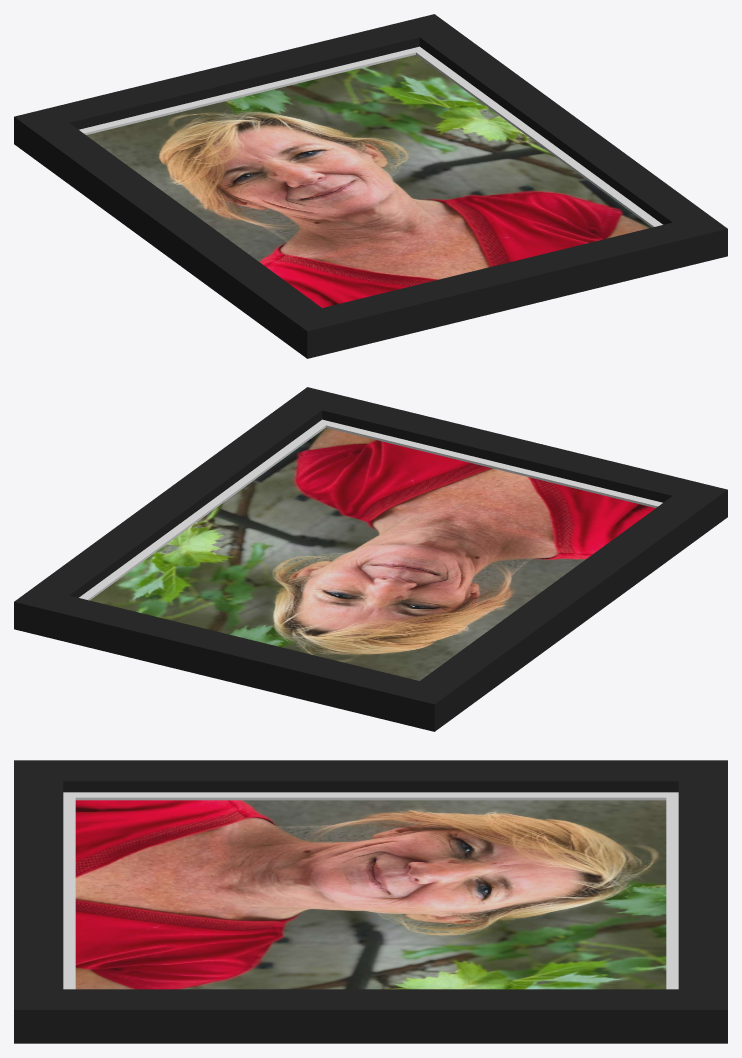
The picture shows the model from 3 angles, top to bottom: view 1: azimuth 30°, elevation 25°; view 2: azimuth 150°, elevation 25°; view 3: azimuth 270°, elevation 25°; orthographic projection. The views are drawn at different scales.
Parts seen in each view (by area): view 1: PhotoPlane.002, BuitenFrame, BinnenFrame; view 2: PhotoPlane.002, BuitenFrame, BinnenFrame; view 3: PhotoPlane.002, BuitenFrame, BinnenFrame.
Part boxes in pixels (x1,y1,x2,y2): PhotoPlane.002: (86,55,651,307); BuitenFrame: (14,14,727,358); BinnenFrame: (79,46,662,227); PhotoPlane.002: (90,428,655,680); BuitenFrame: (14,387,727,731); BinnenFrame: (79,419,662,600); PhotoPlane.002: (75,800,666,989); BuitenFrame: (14,760,727,1043); BinnenFrame: (63,792,678,989).
Bounding box in the file's own units: 0.48 × 0.03 × 0.58.
Materials: 3 (1 with a texture image).
